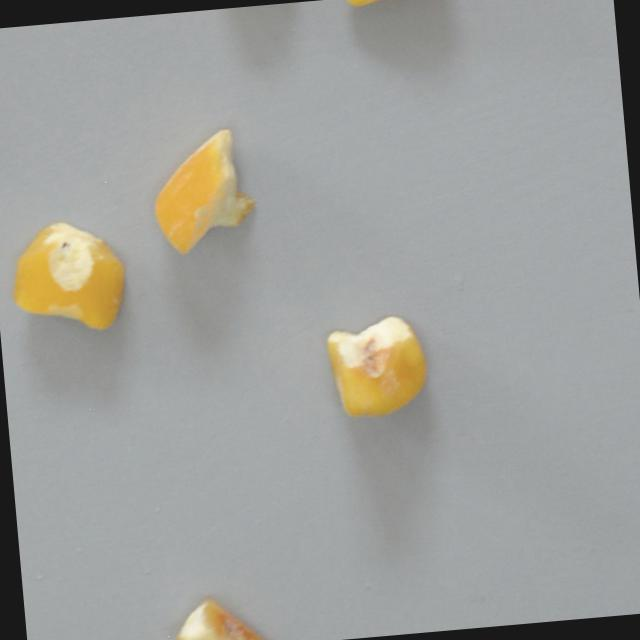dañado: (314, 310, 438, 425), (157, 585, 295, 640)
pelicula: (144, 125, 259, 261), (337, 0, 447, 10)
punto_negro: (2, 213, 131, 343)
